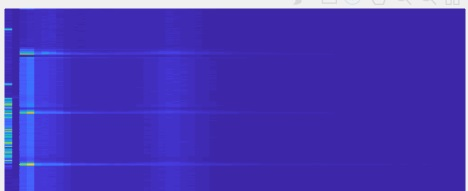leak: (15, 115, 72, 158), (14, 57, 41, 107), (11, 167, 39, 189)
